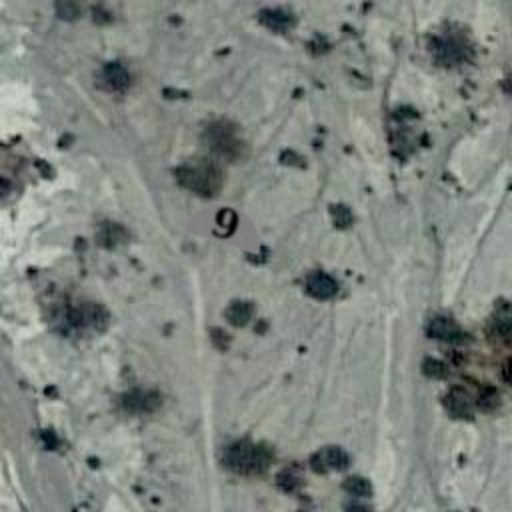semicircle: (174, 172, 278, 276)
